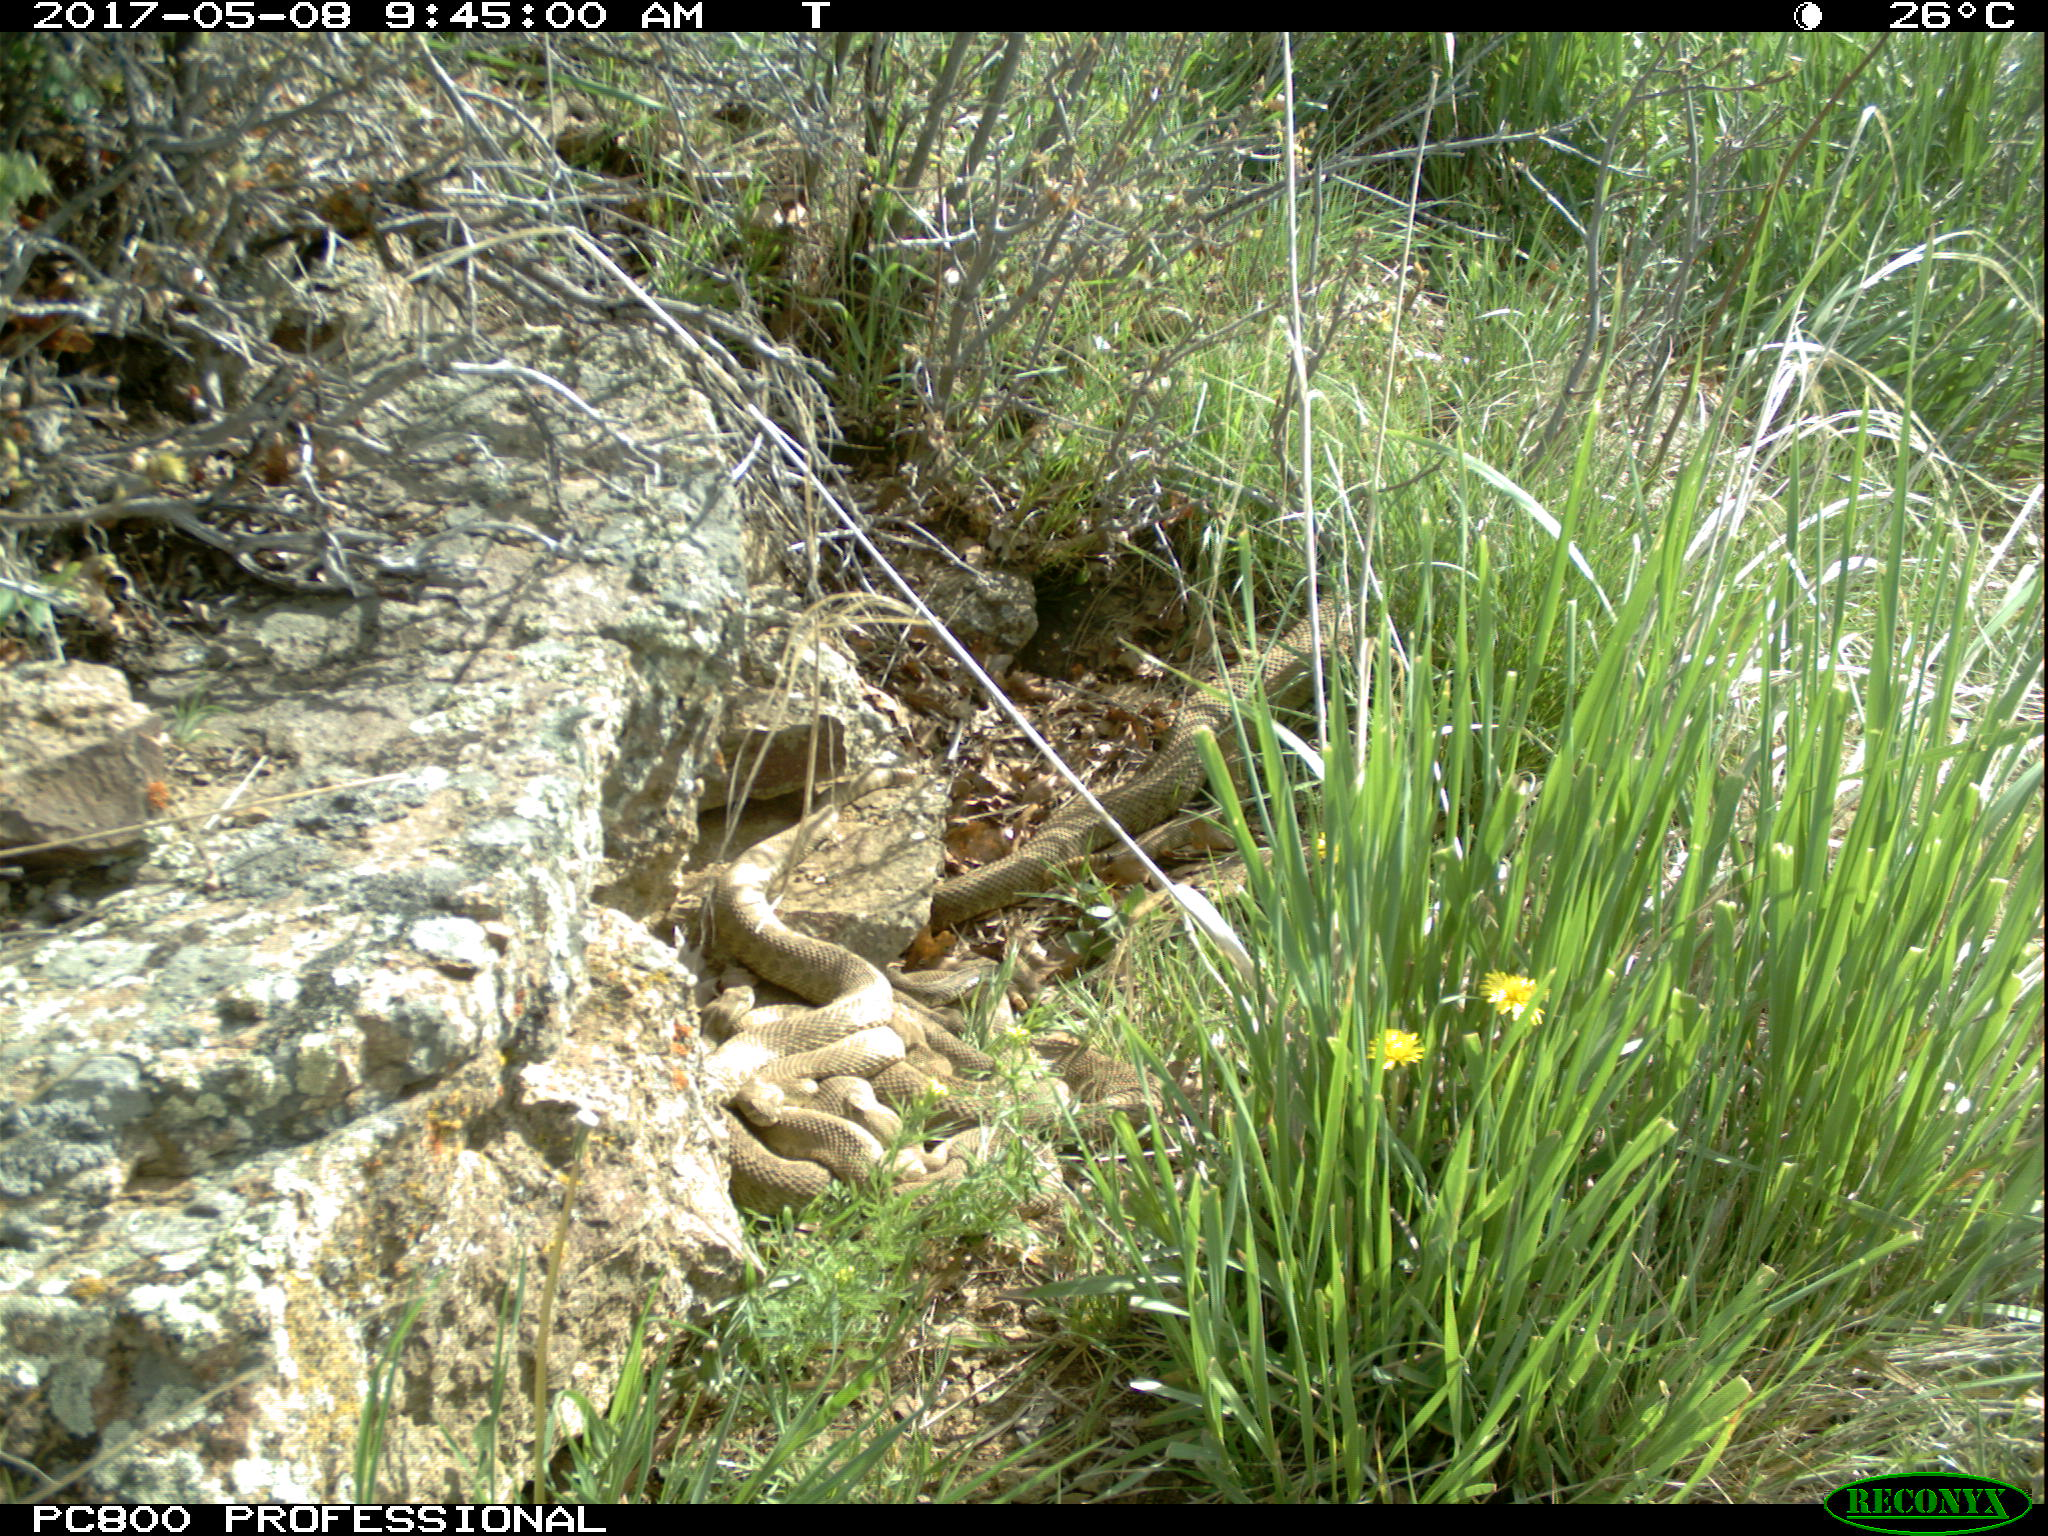snake: (930, 579, 1367, 954), (713, 999, 1103, 1212), (697, 799, 890, 1141)
